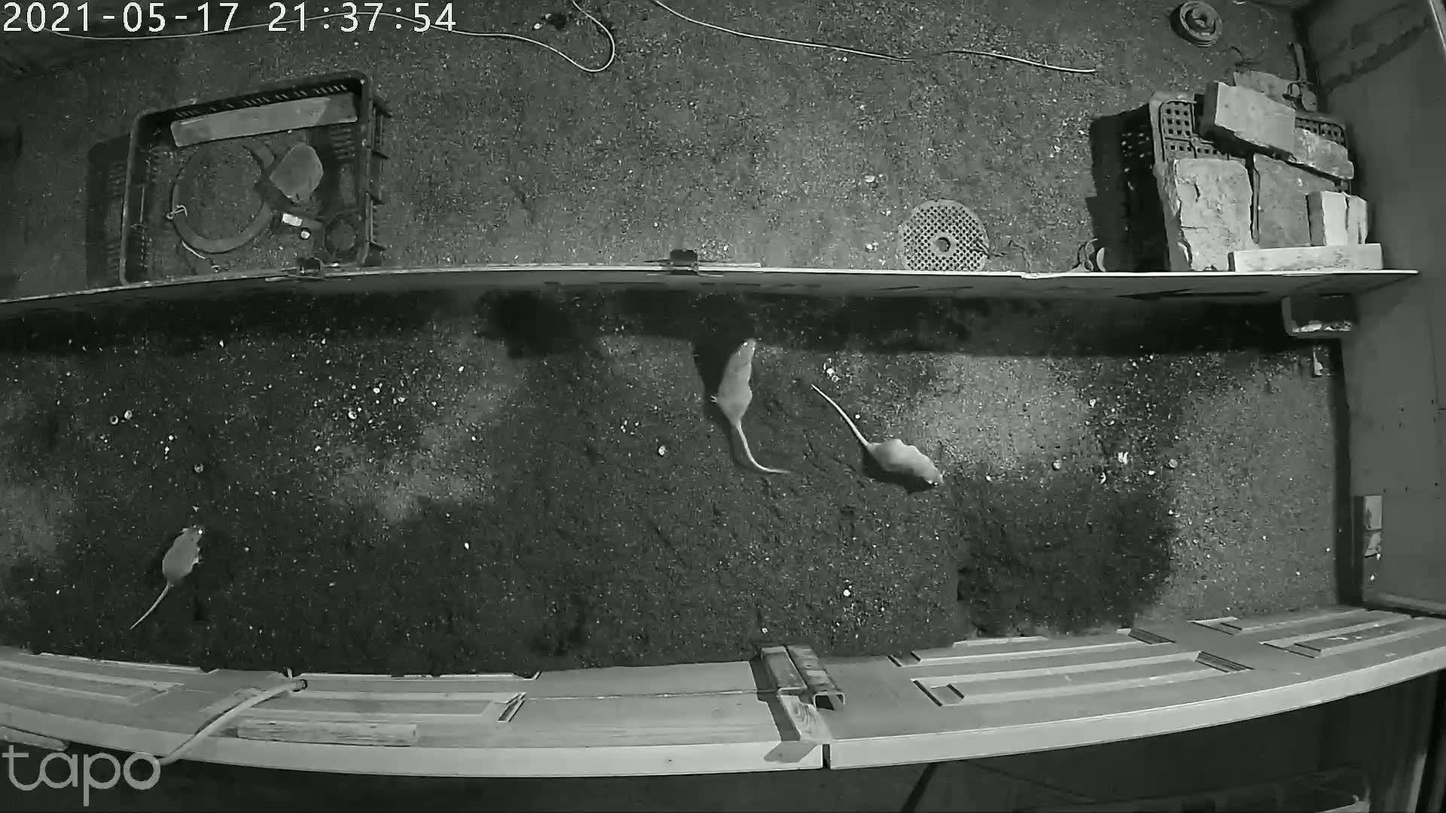rat: (685, 318, 800, 495), (812, 367, 956, 502), (134, 502, 218, 636)
